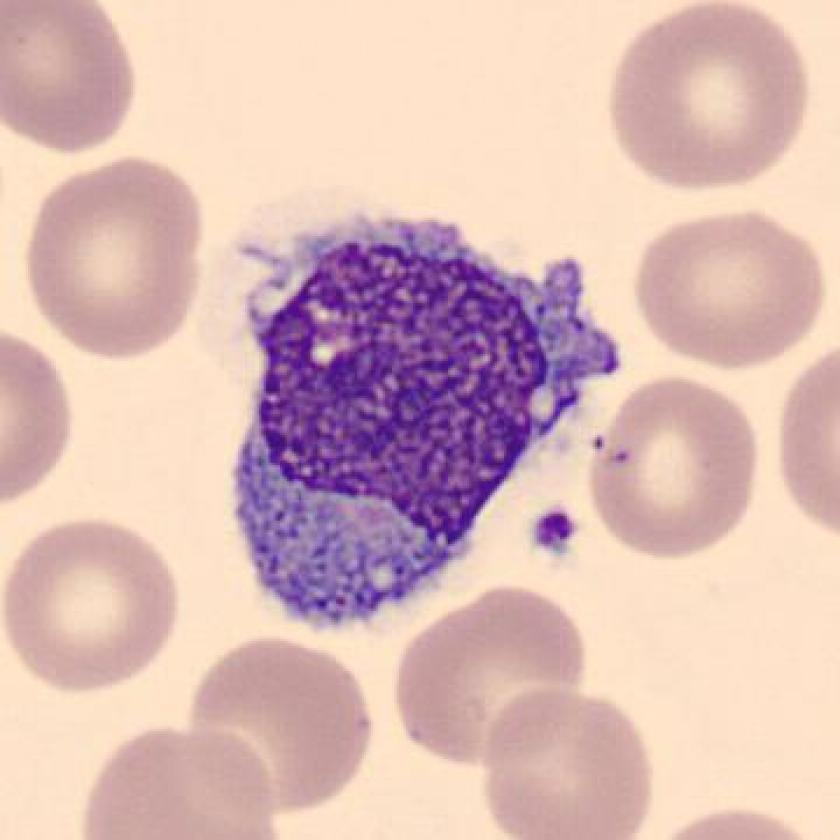monocyte: (206, 184, 643, 649)
